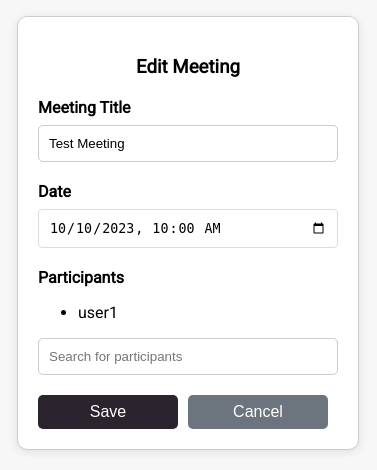
EditMeetingForm › removes participant on double click
The width and height of the screenshot is (377, 470).
Double-click the list item "user1": (98,312) top-left (78, 303), bottom-right (118, 322)
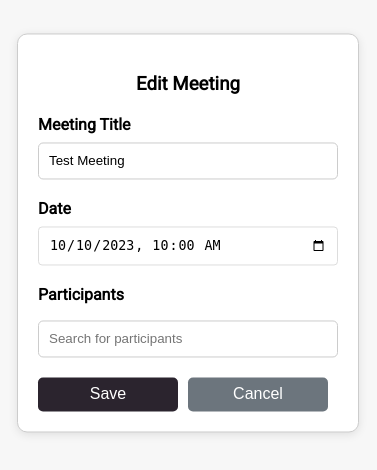
Expected: the list item "user1" is gone
